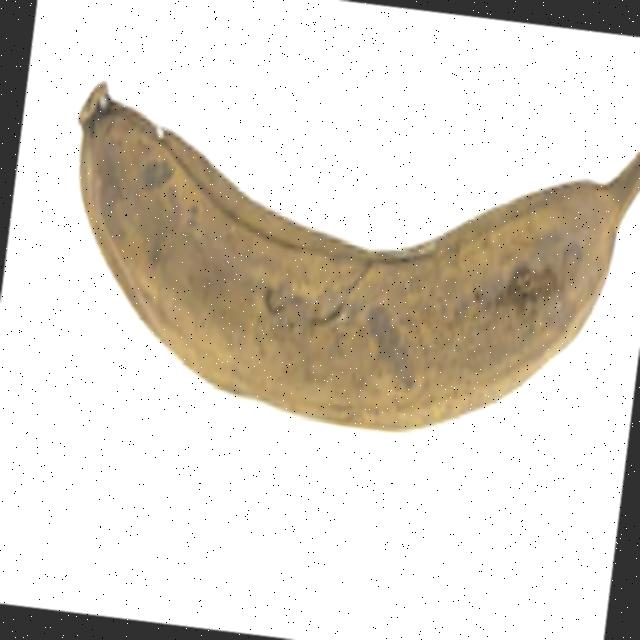Rotten: (23, 0, 640, 471)
